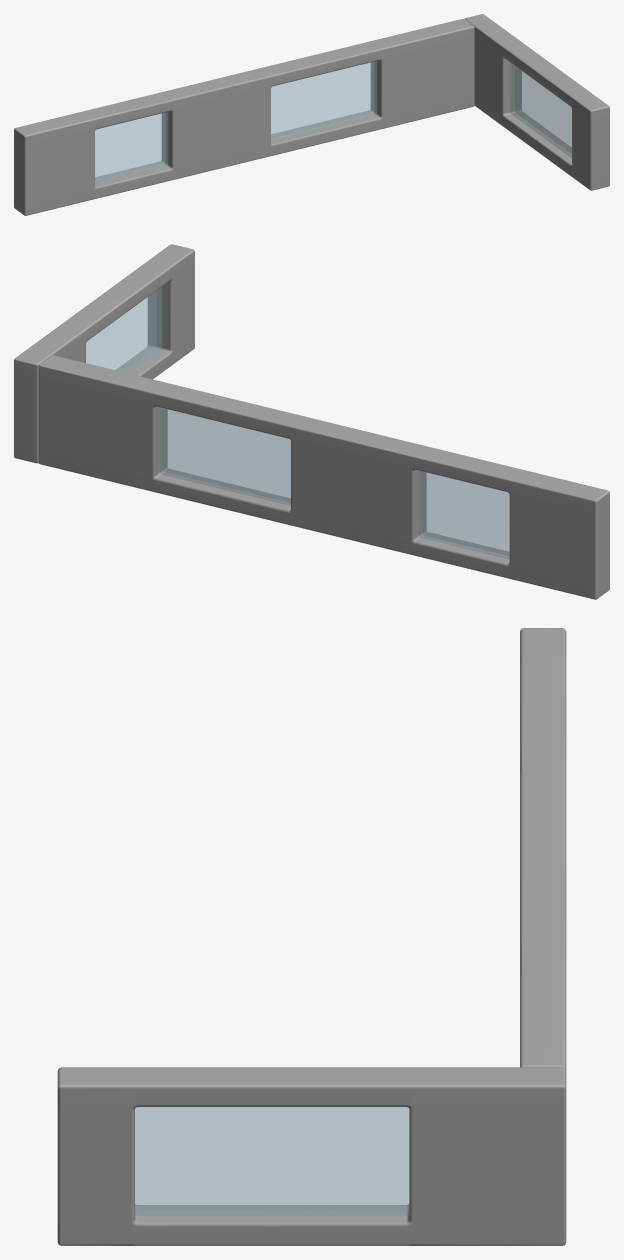
The model's file is Walls Level 0 Mesh.fbx.
The picture shows the model from 3 angles, top to bottom: view 1: azimuth 30°, elevation 25°; view 2: azimuth 150°, elevation 25°; view 3: azimuth 270°, elevation 25°; orthographic projection. The views are drawn at different scales.
Parts seen in each view (by area): view 1: Glass2, pCube8; view 2: Glass2, pCube8; view 3: pCube8, Glass2.
Part boxes in pixels (x1,y1,x2,y2): Glass2: [14, 19, 474, 215]; pCube8: [464, 14, 609, 190]; Glass2: [38, 355, 609, 599]; pCube8: [14, 244, 194, 463]; pCube8: [57, 1067, 566, 1245]; Glass2: [520, 628, 566, 1070].
Size of the model in its own units: 23.49 by 3.85 by 11.
